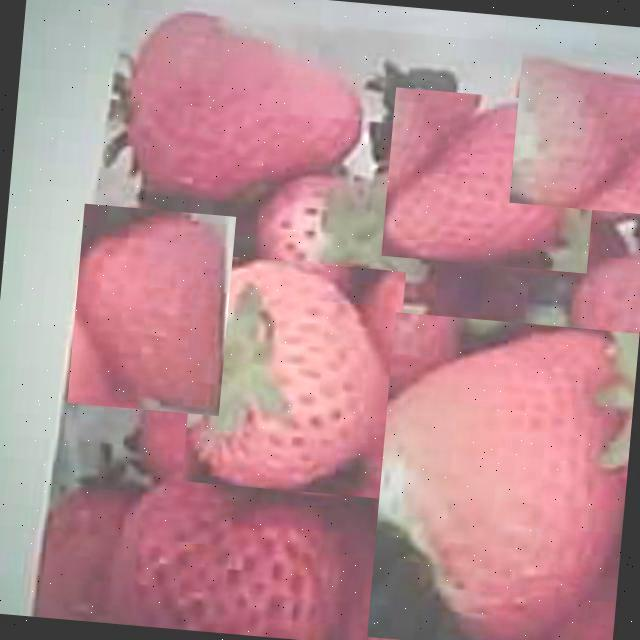ripe: (368, 311, 640, 640), (182, 254, 406, 498), (116, 8, 372, 212), (382, 87, 602, 273), (114, 482, 341, 640), (68, 204, 237, 416), (511, 52, 640, 214)
